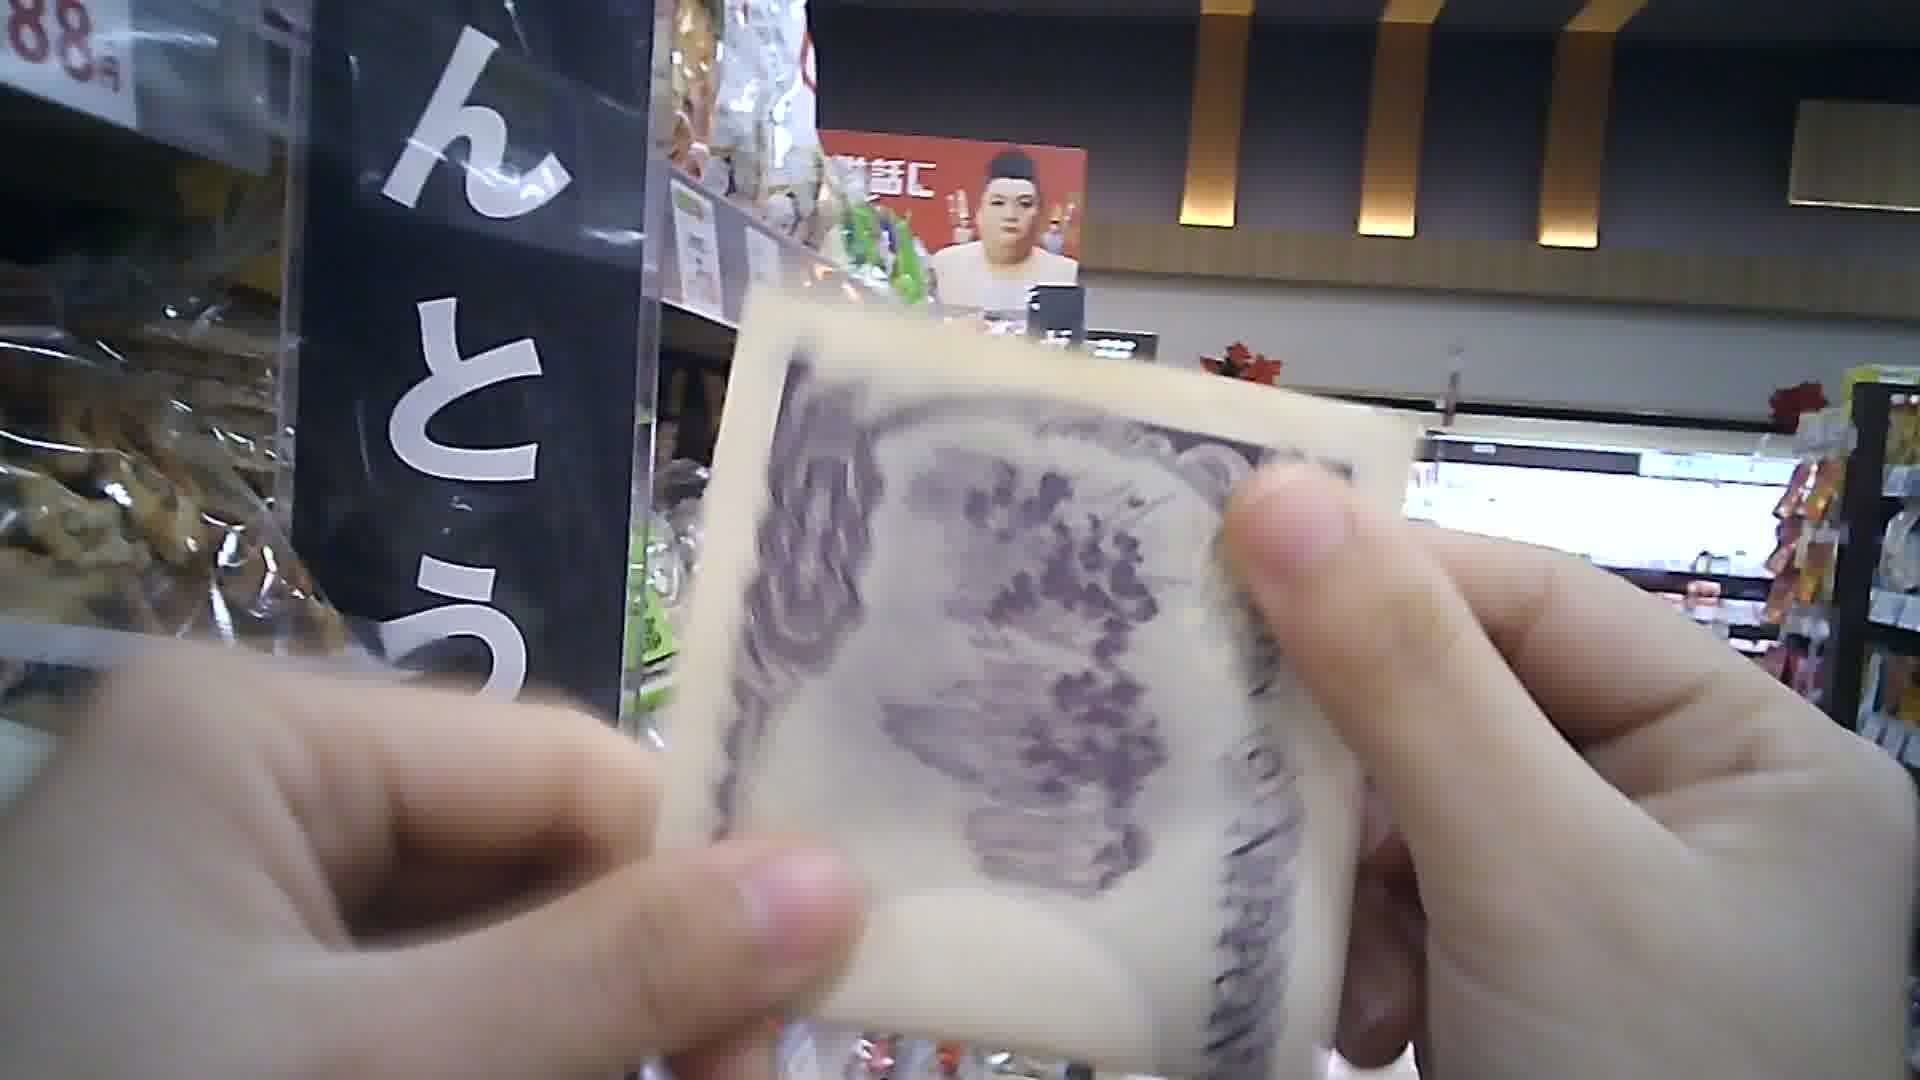5,000 Yen: (663, 280, 1395, 1079)
